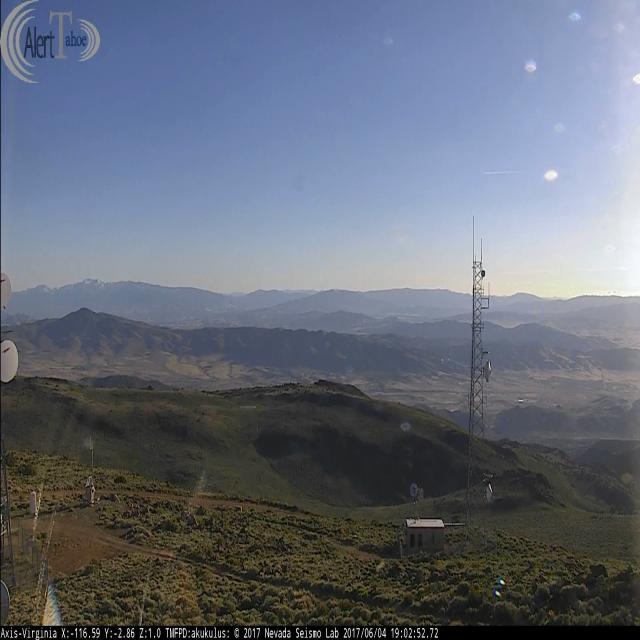smoke: (226, 302, 235, 310)
